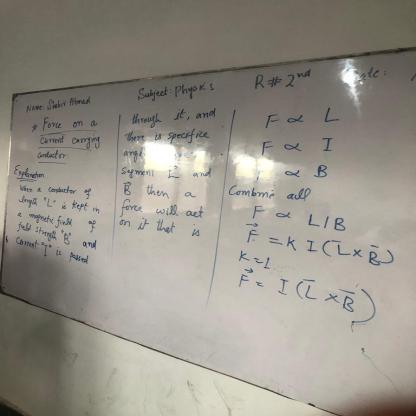Handwritten text: (7, 232, 102, 273), (10, 219, 109, 256), (8, 205, 108, 238), (113, 212, 209, 244), (128, 77, 224, 105), (112, 195, 210, 222), (122, 104, 229, 128), (13, 193, 107, 219), (120, 123, 219, 147), (116, 162, 219, 185), (119, 141, 207, 166), (117, 179, 204, 204), (20, 91, 96, 116), (36, 108, 105, 135), (224, 184, 325, 201), (35, 128, 108, 151), (11, 181, 98, 199), (341, 63, 383, 92), (302, 211, 353, 233), (8, 162, 52, 184), (29, 146, 72, 164), (260, 109, 288, 131), (316, 134, 343, 154), (253, 136, 279, 156), (243, 203, 268, 221), (322, 104, 342, 126), (312, 163, 336, 181), (246, 166, 270, 184)
Whiteboard: (0, 48, 416, 416)
